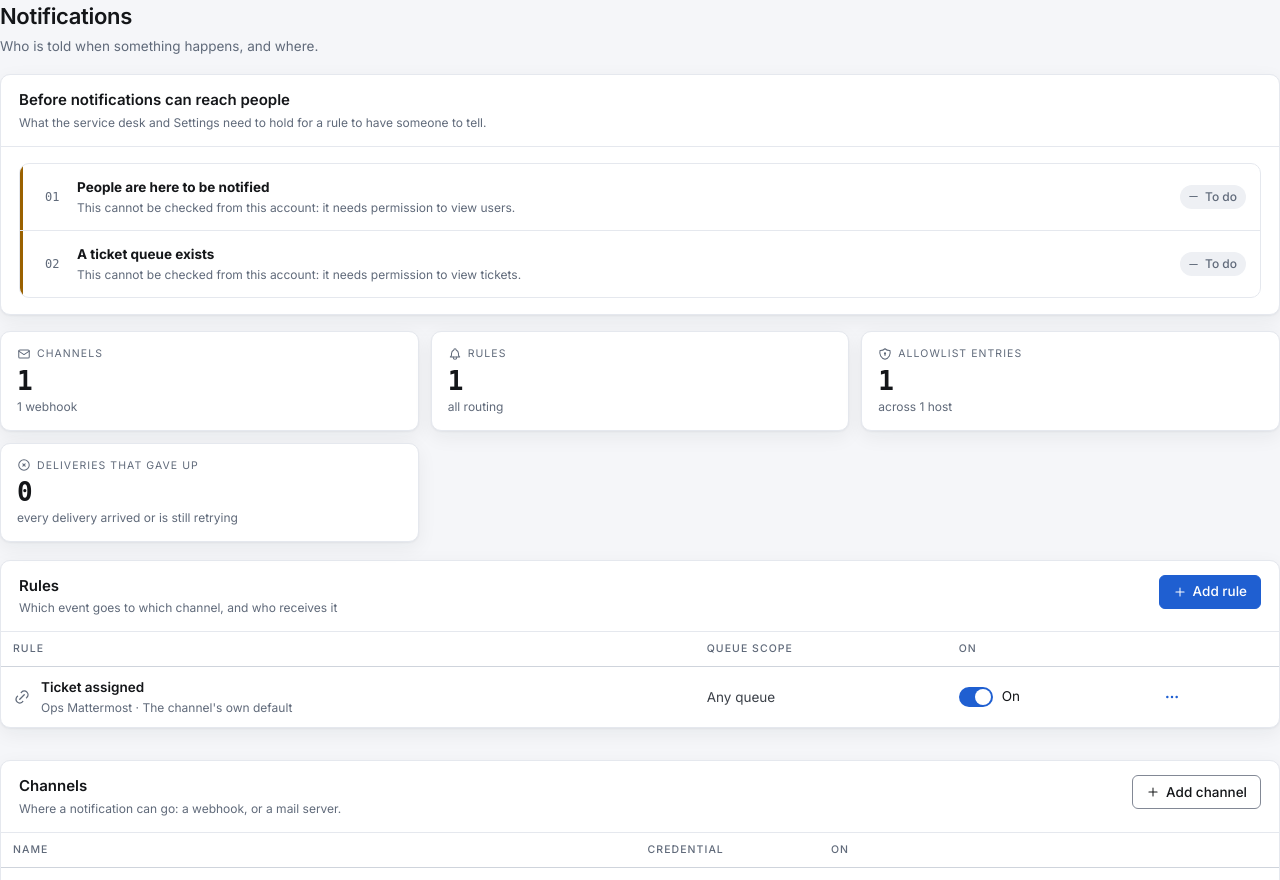
Scenario: notification channels form › keeps Save clickable on an empty form and names every missing field
What coordinates should you click on to do the following:
click the button "Add channel"
I would click on:
 (1197, 792)
Its box is [1132,775,1261,809].
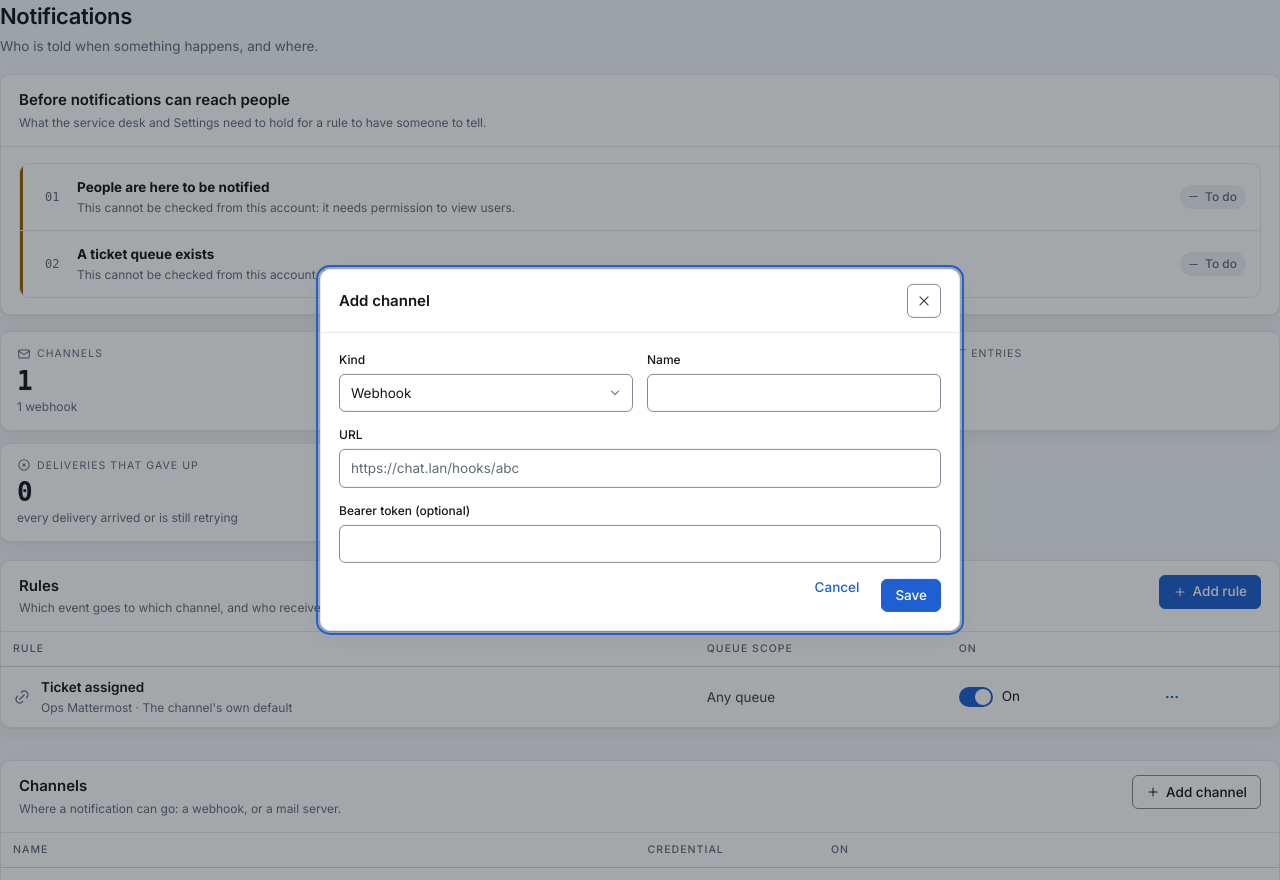
Check: the button "Save" is enabled
What coordinates should you click on to do the following:
click the button "Save"
I would click on:
 (911, 595)
Its box is [881,579,941,612].
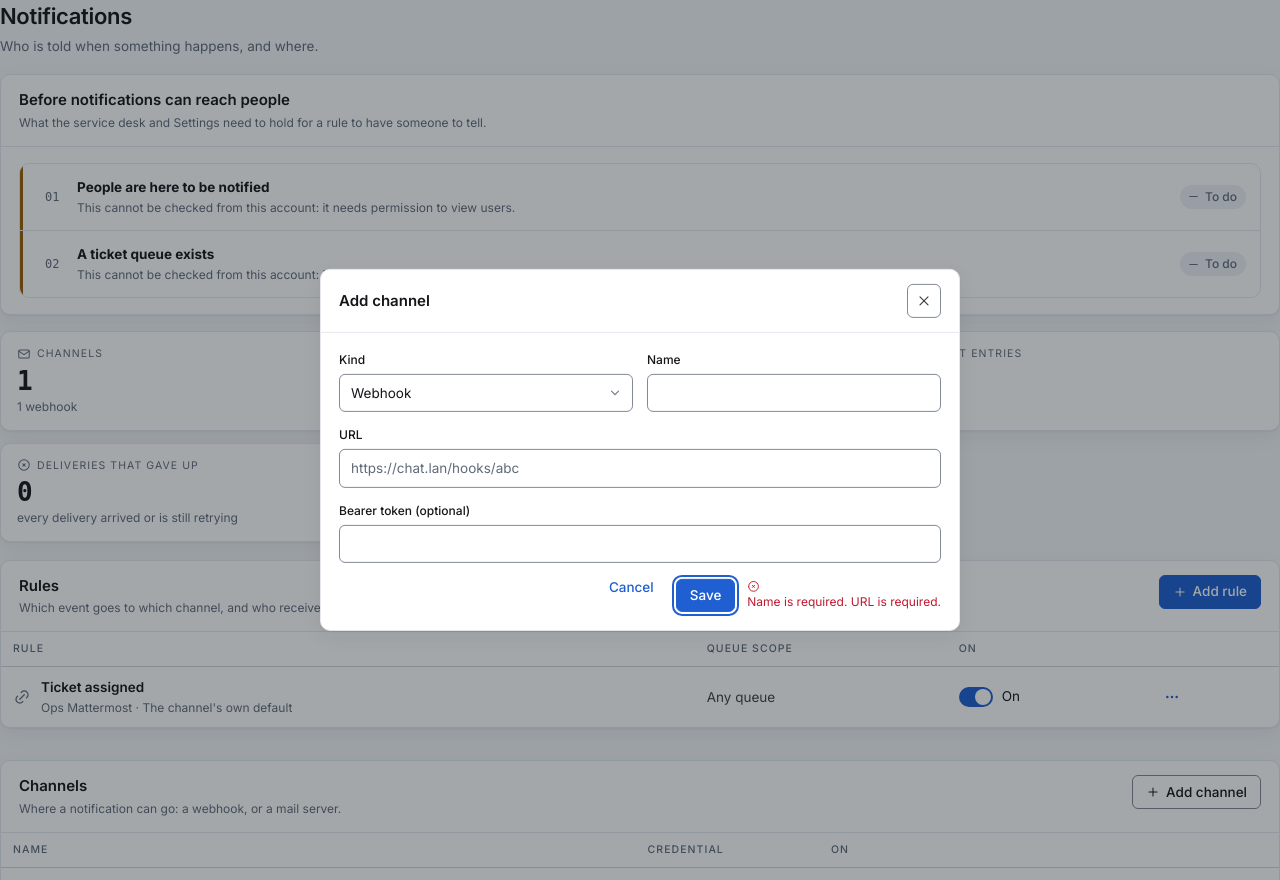
Check: the message shows "Name is required", box [747,594,938,609]
Check: the message shows "URL is required", box [747,594,938,609]
